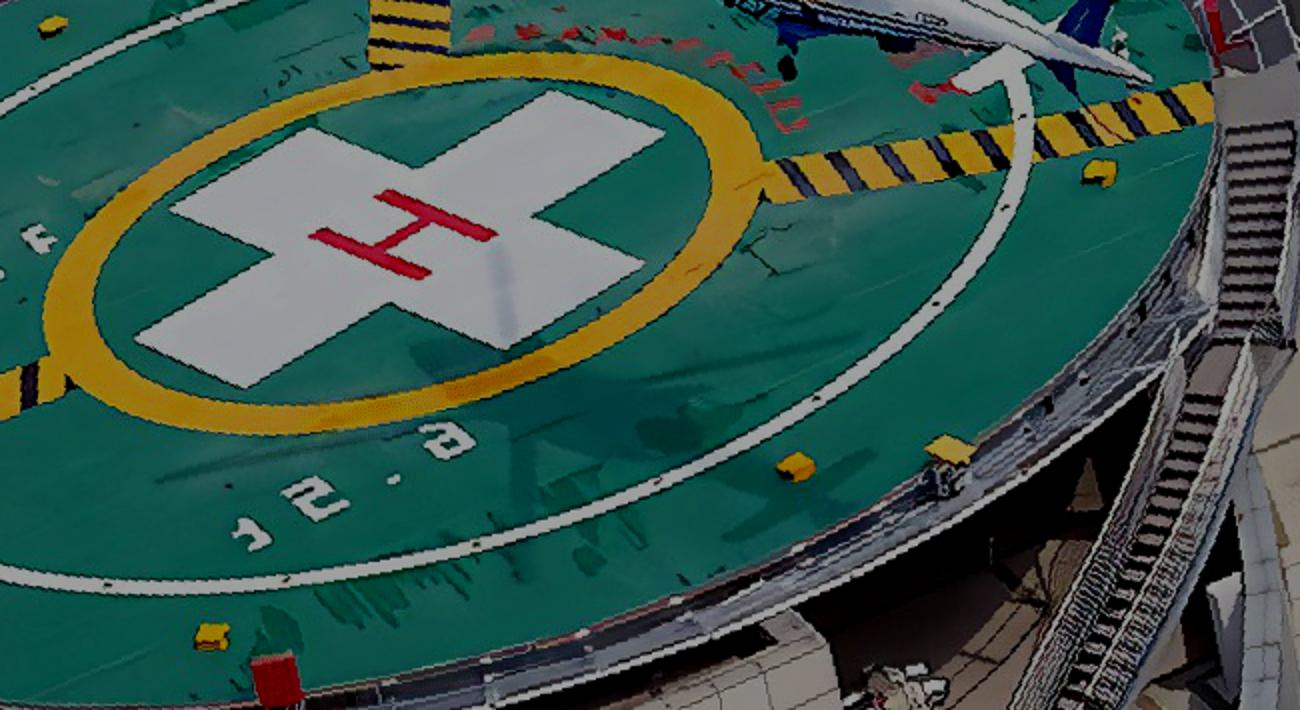Apron: (38, 15, 782, 461)
